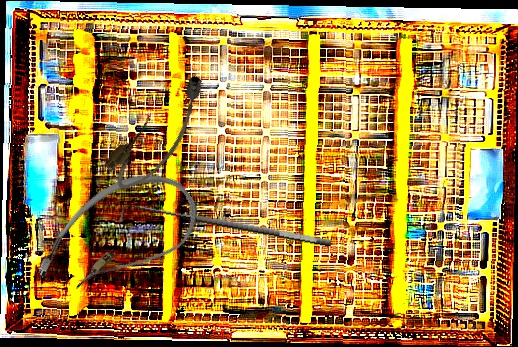Cannula: (22, 149, 212, 326), (98, 67, 224, 199)
Hook Surgical: (116, 195, 333, 264)
